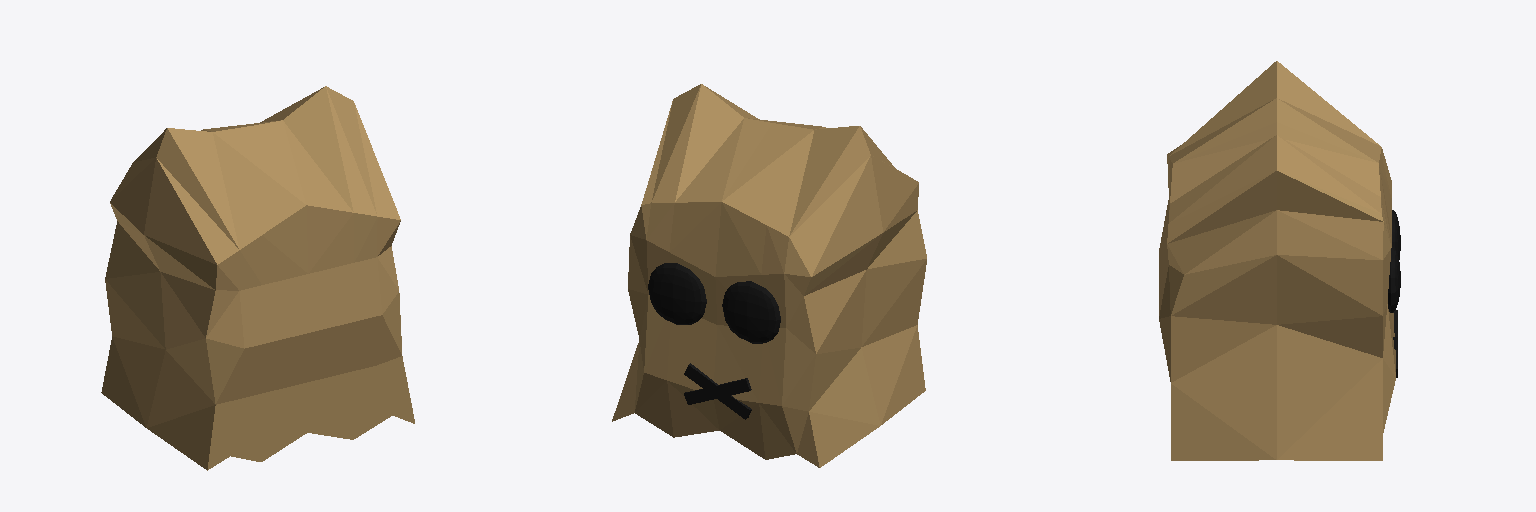
The picture shows the model from 3 angles: view 1: azimuth 30°, elevation 25°; view 2: azimuth 150°, elevation 25°; view 3: azimuth 270°, elevation 25°; orthographic projection.
Visible parts, largest first — view 1: head; view 2: head; view 3: head.
Part boxes in pixels (x1,y1,x2,y2): head: (101,86,414,470); head: (612,84,926,467); head: (1159,61,1400,460).
Size of the model in its own units: 1.24 by 1.61 by 1.14.
Materials: 2 (1 with a texture image).